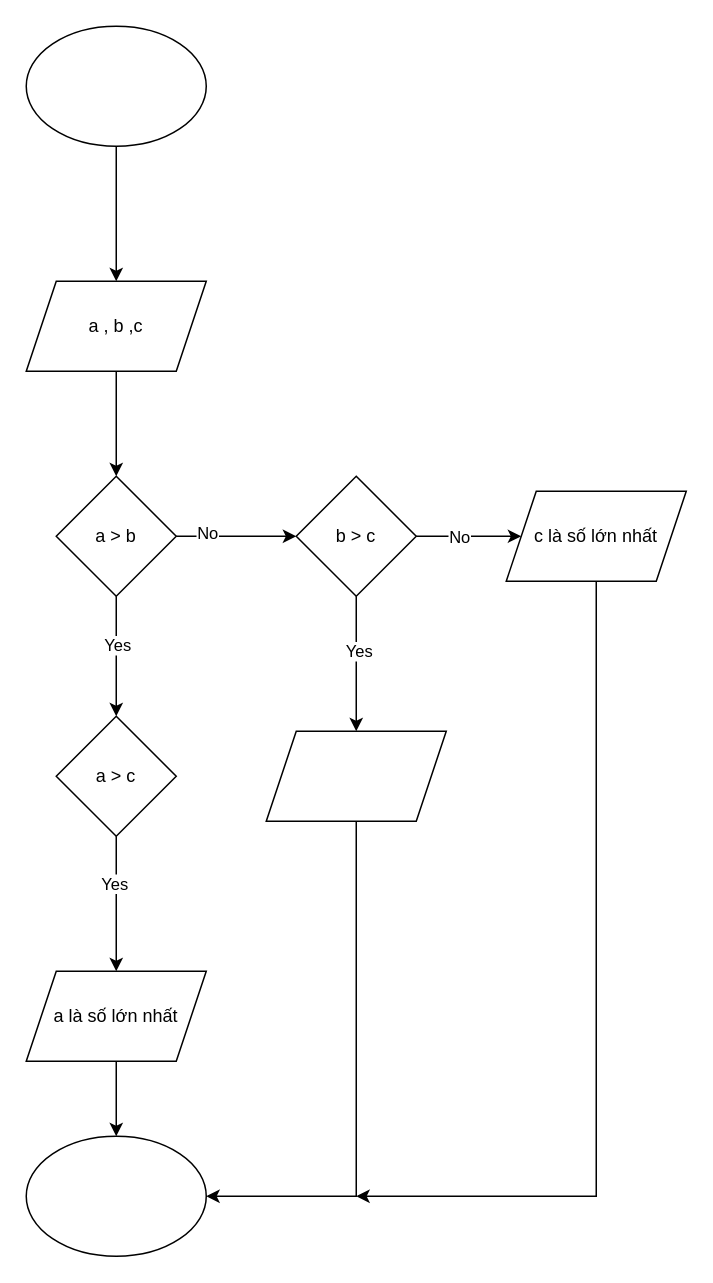
The diagram is 713 pixels wide and 1283 high, and some of its shapes have lost their labels. The shapes that lost their labels are listed below. From the top down, each one's box as (x1, y1, x2, y2) in pixels, then its label:
(25, 25, 206, 146): Start
(265, 730, 446, 821): b là số lớn nhát
(25, 1135, 206, 1256): End
